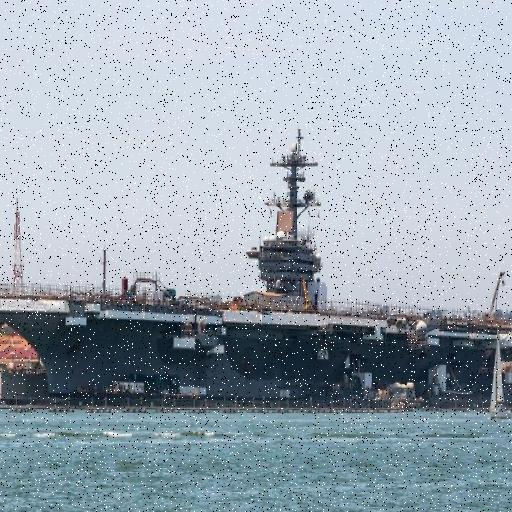Portanaves: (1, 126, 512, 407)
